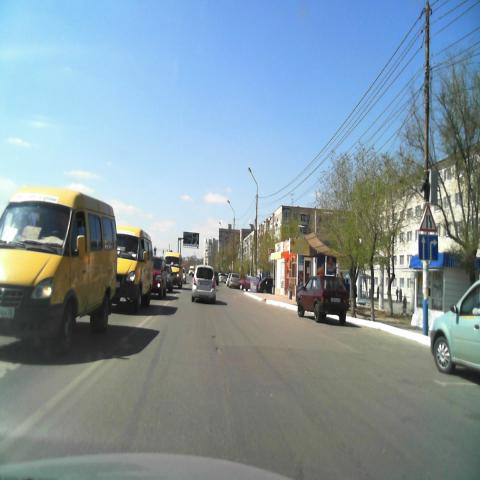1_20_2: (419, 205, 437, 231)
